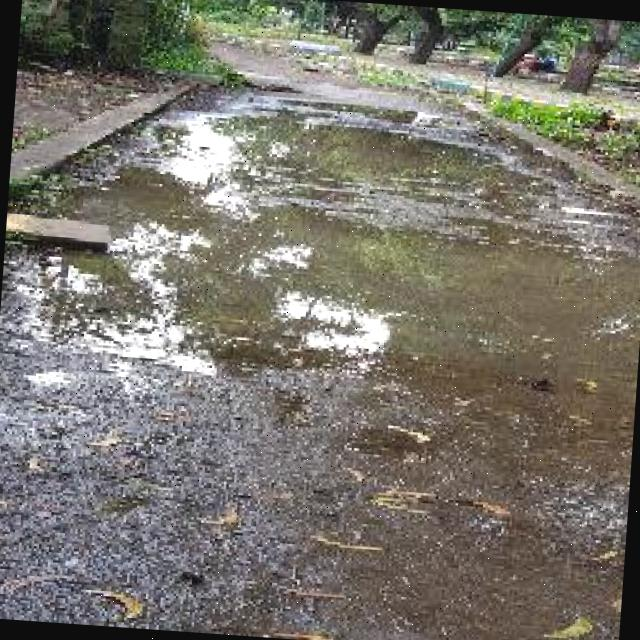stagnation: (102, 113, 640, 402)
